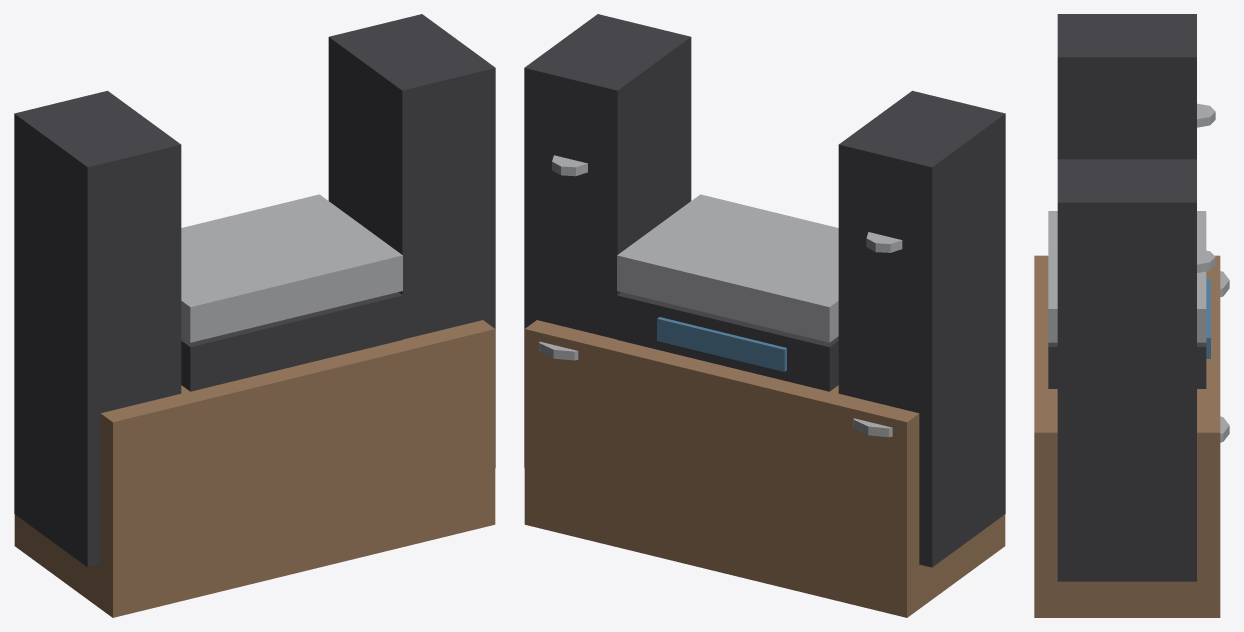
Rendered from stereo.glb.
3 views of the same model, side by side, from view 1: azimuth 30°, elevation 25°; view 2: azimuth 150°, elevation 25°; view 3: azimuth 270°, elevation 25° (orthographic). The views are drawn at different scales.
Visible parts, largest first — view 1: stereo; view 2: stereo; view 3: stereo.
Boxes of the visible parts, box(x1,y1,x2,y2) form: stereo: box(14, 14, 495, 617); stereo: box(524, 14, 1005, 617); stereo: box(1034, 14, 1229, 617).
Bounding box in the file's own units: 0.96 × 1 × 0.42.
